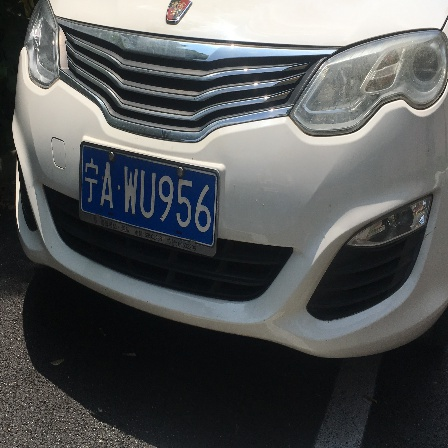plate: (77, 141, 220, 254)
